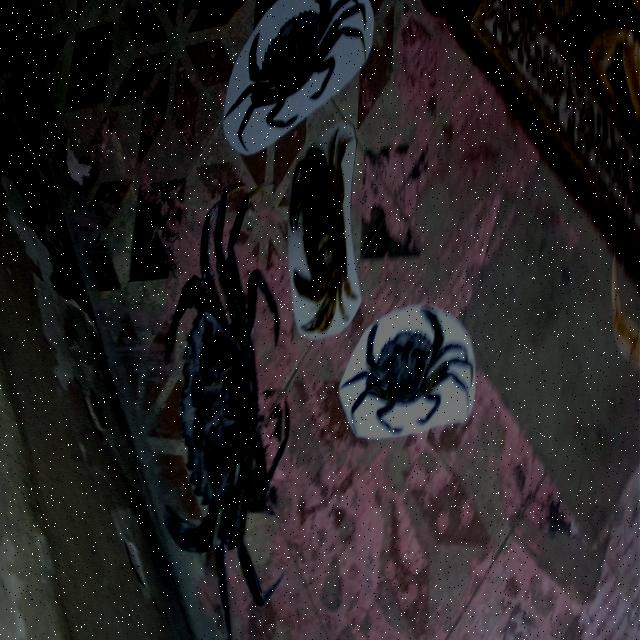European_Green_Crab: (161, 185, 292, 630), (213, 0, 376, 178), (340, 291, 475, 454)
